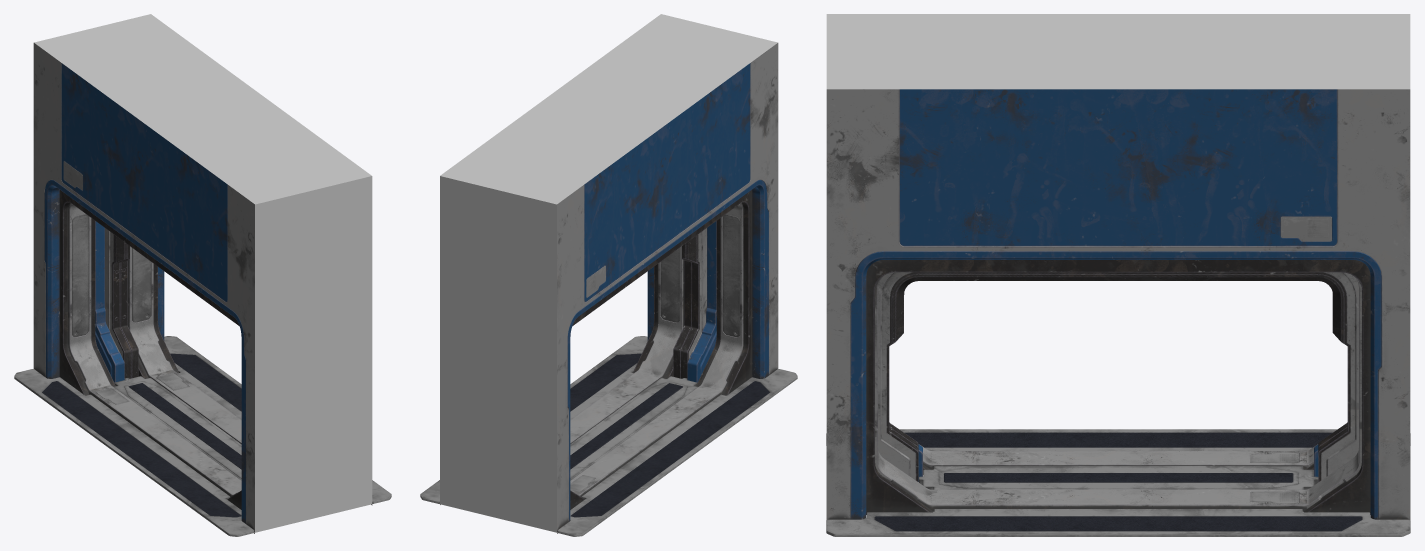
Rendered from SM_CorridorBigDoor01.fbx.
The picture shows the model from 3 angles, left to right: view 1: azimuth 30°, elevation 25°; view 2: azimuth 150°, elevation 25°; view 3: azimuth 270°, elevation 25°; orthographic projection. The views are drawn at different scales.
Visible parts, largest first — view 1: SM_CorridorBigDoor01_LOD0; view 2: SM_CorridorBigDoor01_LOD0; view 3: SM_CorridorBigDoor01_LOD0.
Part boxes in pixels (x1,y1,x2,y2): SM_CorridorBigDoor01_LOD0: [14, 14, 391, 536]; SM_CorridorBigDoor01_LOD0: [420, 14, 797, 536]; SM_CorridorBigDoor01_LOD0: [826, 14, 1410, 536].
Bounding box in the file's own units: 334 × 786 × 646.
Materials: 2 (1 with a texture image).
